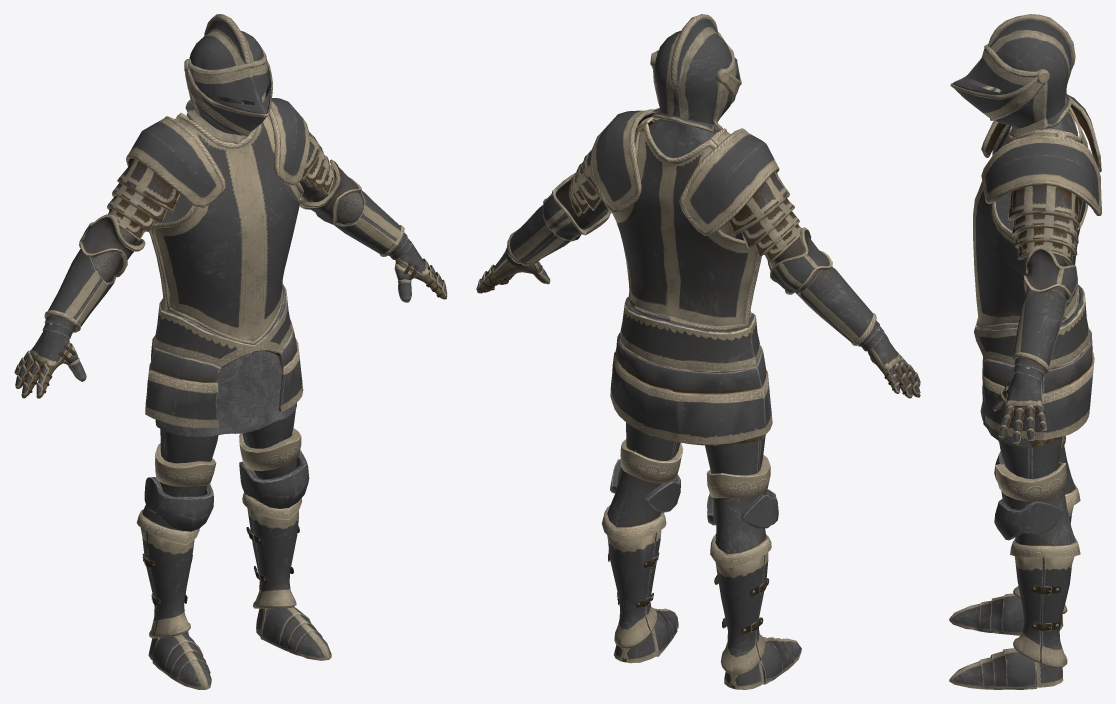
The model's file is obsidian_knight.glb.
The picture shows the model from 3 angles, left to right: view 1: azimuth 30°, elevation 25°; view 2: azimuth 150°, elevation 25°; view 3: azimuth 270°, elevation 25°; orthographic projection. The views are drawn at different scales.
Visible parts, largest first — view 1: outfit; view 2: outfit; view 3: outfit.
Boxes of the visible parts, left/top/right/bottom form: outfit: left=14, top=14, right=447, bottom=689; outfit: left=476, top=14, right=920, bottom=689; outfit: left=949, top=14, right=1101, bottom=689.
Size of the model in its own units: 1.27 by 1.8 by 0.3897.
6 materials, 6 textured.
